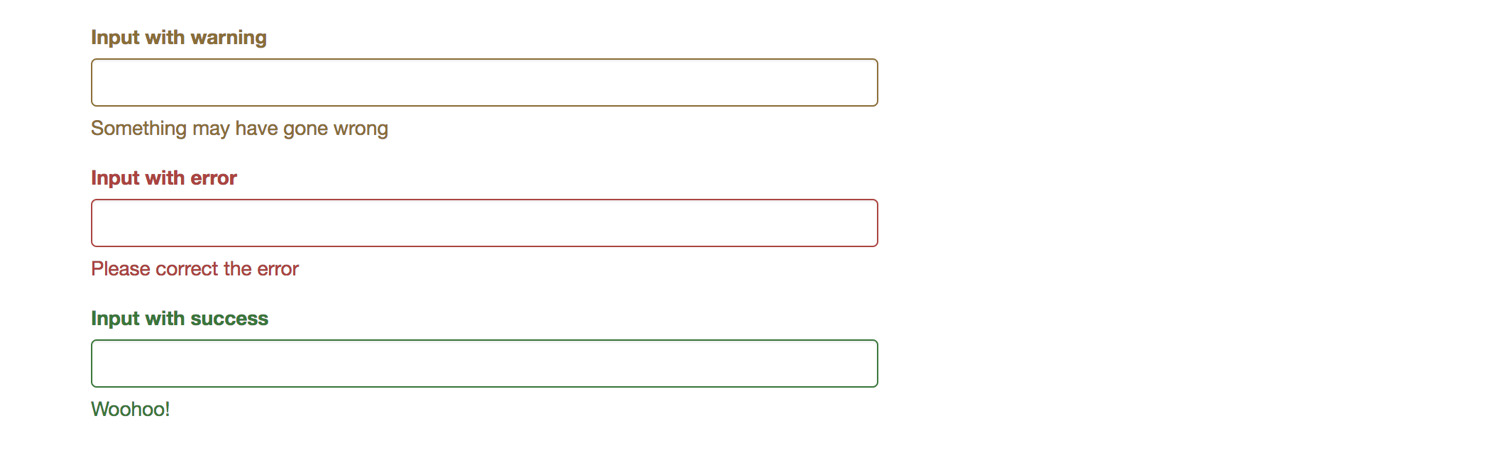error_field: (89, 196, 881, 249)
error_message: (92, 257, 304, 279), (90, 168, 242, 187)
